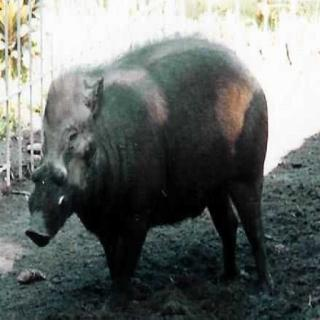Pig: (20, 23, 313, 289)
